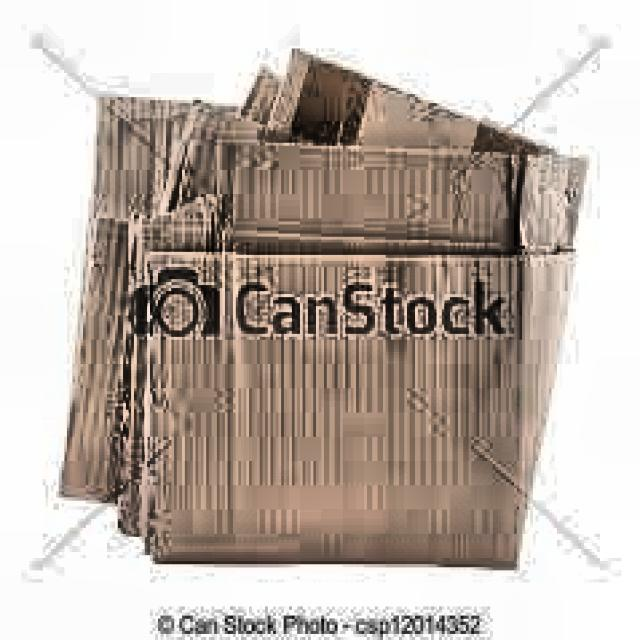Cardbox: (56, 33, 589, 579)
